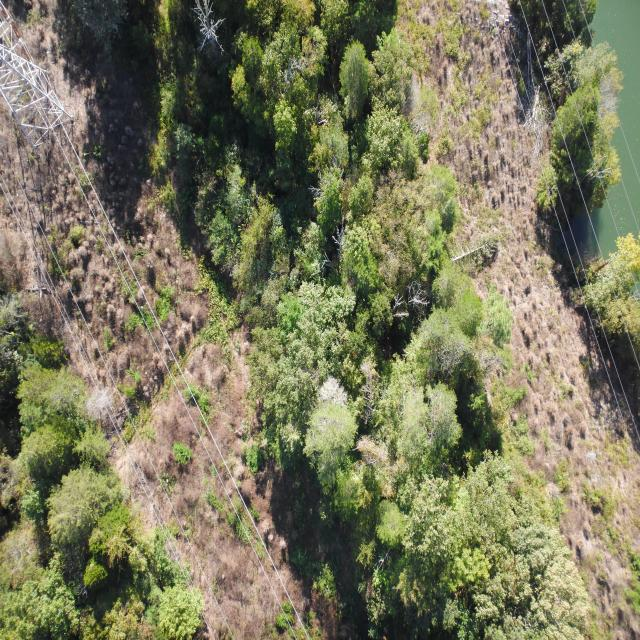Area of Interest: (153, 9, 562, 639), (9, 346, 192, 624)
